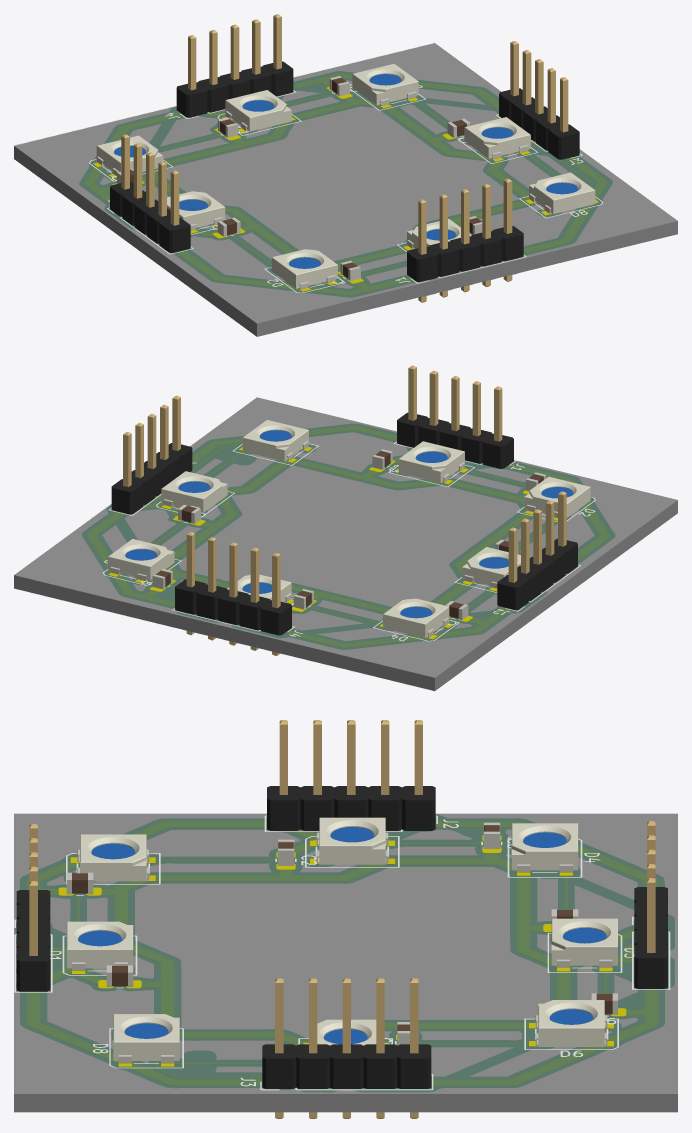
File: square.glb
The picture shows the model from 3 angles, top to bottom: view 1: azimuth 30°, elevation 25°; view 2: azimuth 150°, elevation 25°; view 3: azimuth 270°, elevation 25°; orthographic projection. The views are drawn at different scales.
Parts seen in each view (by area): view 1: =>[0:1:1:8], =>[0:1:1:7], =>[0:1:1:5], J1, J4, J2, J3, D6, D7, D5, D2, D8 (+4 smaller); view 2: =>[0:1:1:8], =>[0:1:1:7], =>[0:1:1:5], J4, J1, J2, J3, D1, D8, D4, D6, D7 (+4 smaller); view 3: =>[0:1:1:8], =>[0:1:1:7], =>[0:1:1:5], J3, J2, J1, J4, =>[0:1:1:6], D3, D4, D6, D5 (+6 smaller).
Part boxes in pixels (left/top/right/bottom): =>[0:1:1:8]: left=14, top=43, right=677, bottom=336; =>[0:1:1:7]: left=79, top=71, right=612, bottom=297; =>[0:1:1:5]: left=84, top=74, right=607, bottom=295; J1: left=407, top=178, right=523, bottom=302; J4: left=176, top=14, right=293, bottom=117; J2: left=110, top=134, right=190, bottom=252; J3: left=499, top=41, right=579, bottom=159; D6: left=352, top=63, right=418, bottom=105; D7: left=464, top=117, right=530, bottom=159; D5: left=225, top=90, right=291, bottom=131; D2: left=271, top=249, right=337, bottom=289; D8: left=529, top=172, right=595, bottom=213; =>[0:1:1:8]: left=14, top=397, right=677, bottom=690; =>[0:1:1:7]: left=81, top=423, right=615, bottom=649; =>[0:1:1:5]: left=87, top=426, right=609, bottom=647; J4: left=175, top=532, right=291, bottom=655; J1: left=397, top=365, right=513, bottom=468; J2: left=497, top=491, right=577, bottom=610; J3: left=111, top=395, right=192, bottom=514; D1: left=398, top=441, right=464, bottom=482; D8: left=242, top=420, right=308, bottom=461; D4: left=383, top=598, right=449, bottom=637; D6: left=108, top=539, right=174, bottom=580; D7: left=161, top=471, right=227, bottom=512; =>[0:1:1:8]: left=14, top=813, right=677, bottom=1112; =>[0:1:1:7]: left=15, top=814, right=674, bottom=1092; =>[0:1:1:5]: left=27, top=822, right=657, bottom=1084; J3: left=262, top=978, right=431, bottom=1118; J2: left=267, top=720, right=435, bottom=830; J1: left=16, top=824, right=50, bottom=991; J4: left=634, top=821, right=667, bottom=988; =>[0:1:1:6]: left=14, top=815, right=670, bottom=1090; D3: left=316, top=817, right=388, bottom=864; D4: left=511, top=823, right=578, bottom=872; D6: left=535, top=1000, right=607, bottom=1046; D5: left=551, top=918, right=617, bottom=967.
Bounding box in the file's own units: 0.05 × 0.0115 × 0.05.
